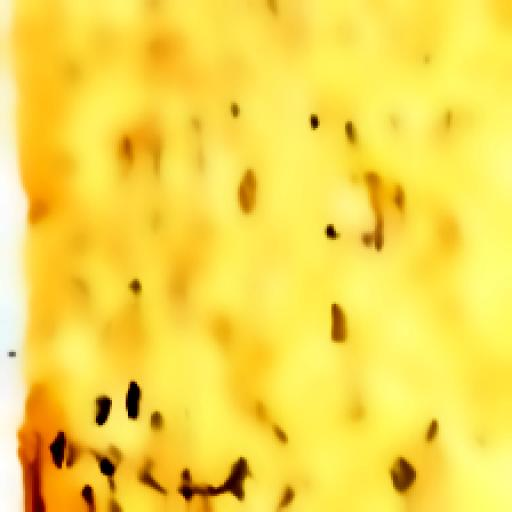egg: (180, 458, 257, 506), (68, 380, 122, 432), (46, 428, 76, 472), (126, 374, 150, 424)
